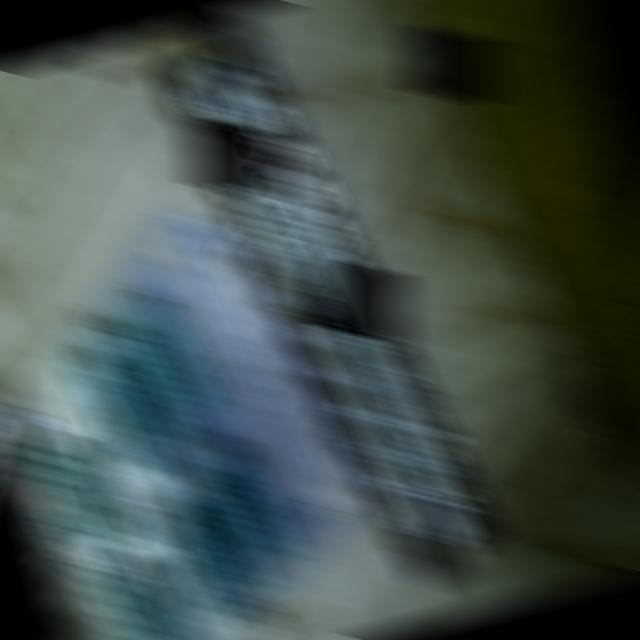Phillips_Block: (145, 8, 514, 591)
Terminal_1: (28, 435, 125, 558), (98, 565, 179, 640)
Terminal_2: (98, 325, 193, 444), (73, 356, 168, 474), (152, 507, 247, 624), (205, 443, 299, 561), (179, 475, 273, 592)
